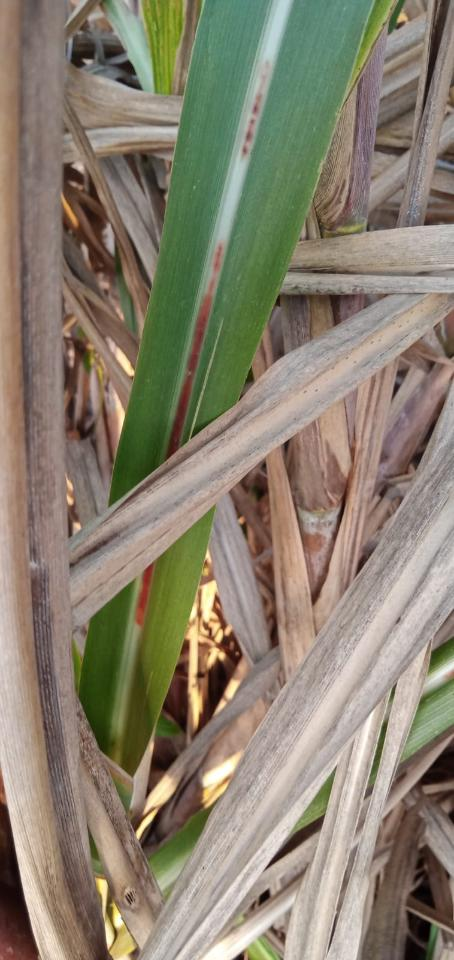RedRot: (167, 242, 225, 461), (241, 58, 271, 159), (134, 561, 155, 626)
